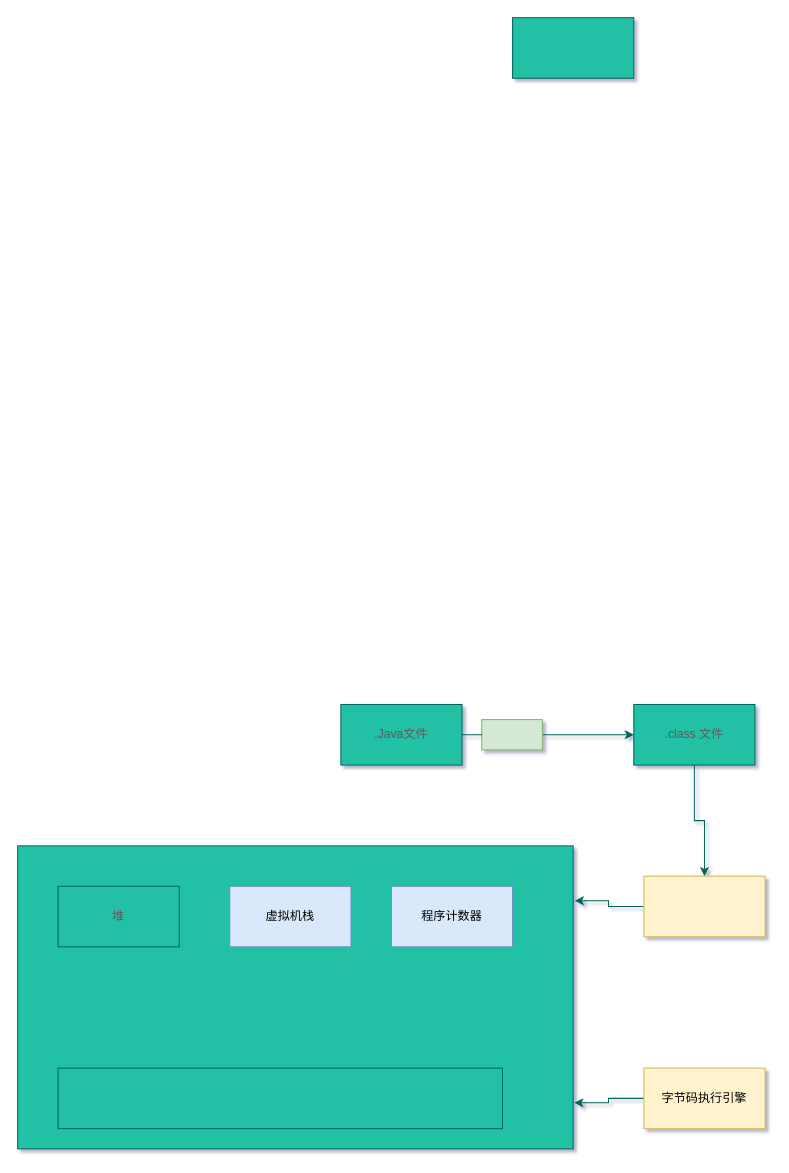
Image size: 789x1173. Some labels were removed from this diagram. The centre of each missing label's shape, as x and y in pixels:
"javac" belongs at [511,734].
"元空间" belongs at [279,1098].
"类加载器" belongs at [704,906].
